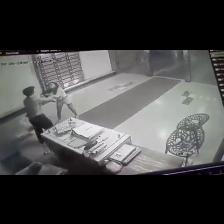person: (23, 87, 55, 143), (45, 83, 78, 122)
